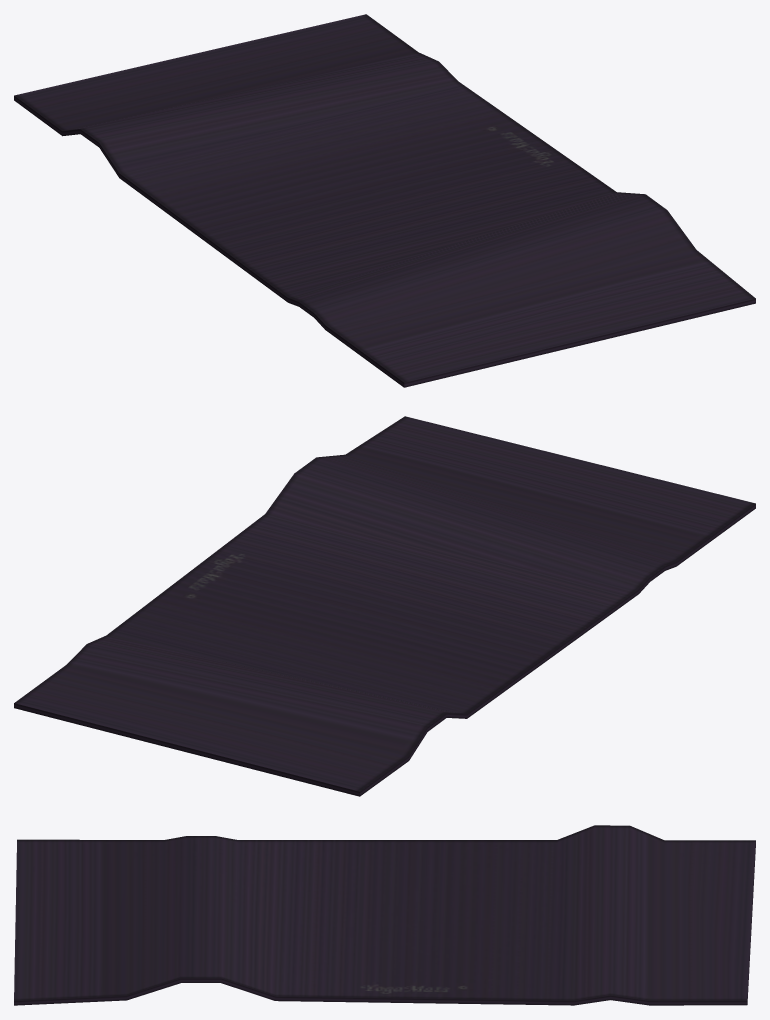
The model's file is yoga_mat_flat_purple_lod0.glb.
3 views of the same model, one above another, from view 1: azimuth 30°, elevation 25°; view 2: azimuth 150°, elevation 25°; view 3: azimuth 270°, elevation 25° (orthographic). The views are drawn at different scales.
Parts seen in each view (by area): view 1: surf0; view 2: surf0; view 3: surf0.
Boxes of the visible parts, x1,y1,x2,y2 form: surf0: (14,14,755,387); surf0: (14,416,755,796); surf0: (14,825,755,1005).
Bounding box in the file's own units: 33.89 × 2.67 × 65.9.
